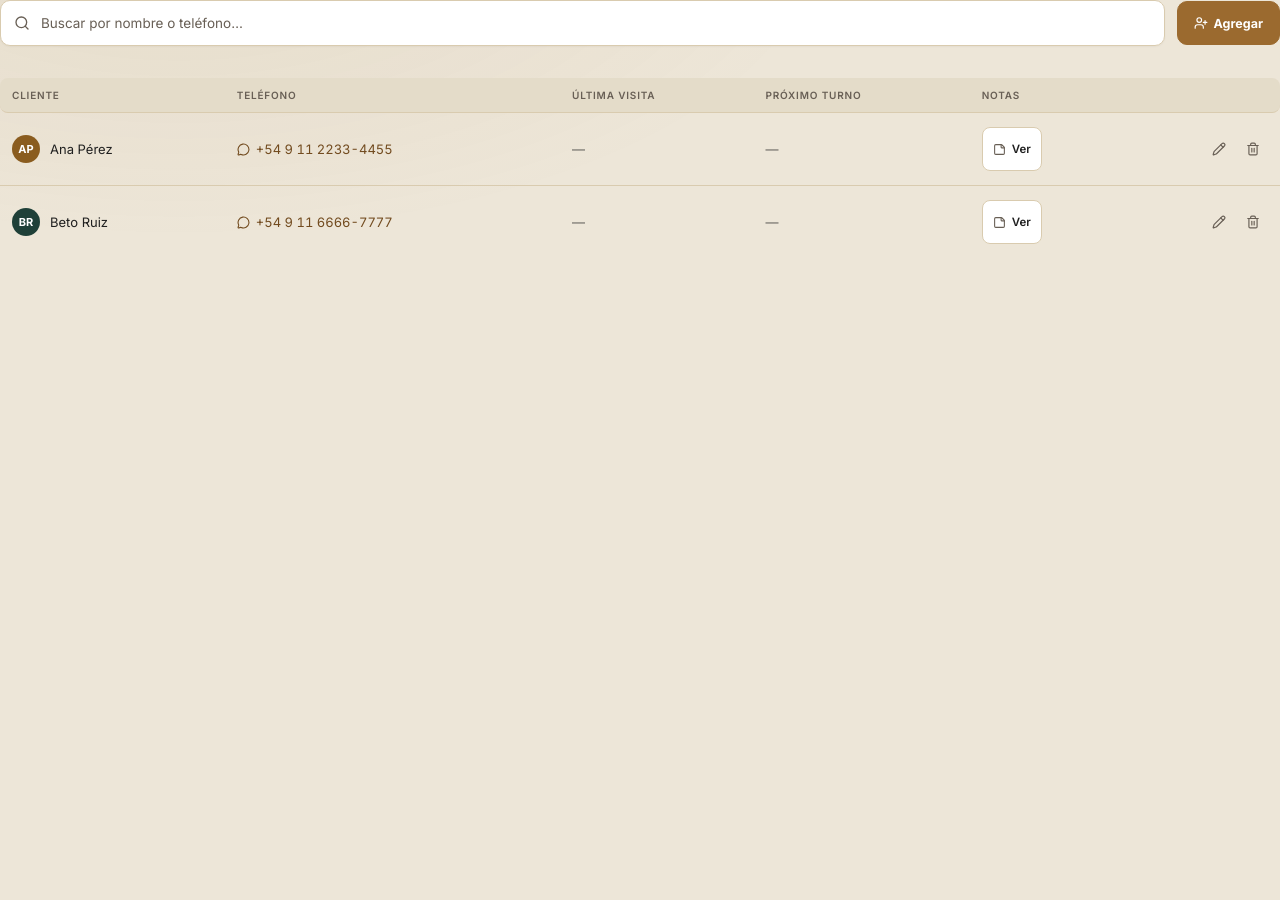
Scenario: Ficha del cliente · Iniciar chat (tarea 38) › desde Clientes: abre la ficha, inicia el chat del cliente correcto y cierra la ficha
What coordinates should you click on to do the following:
click the button "BR Beto Ruiz"
I would click on:
 (60, 222)
Its box is [12,208,108,236].
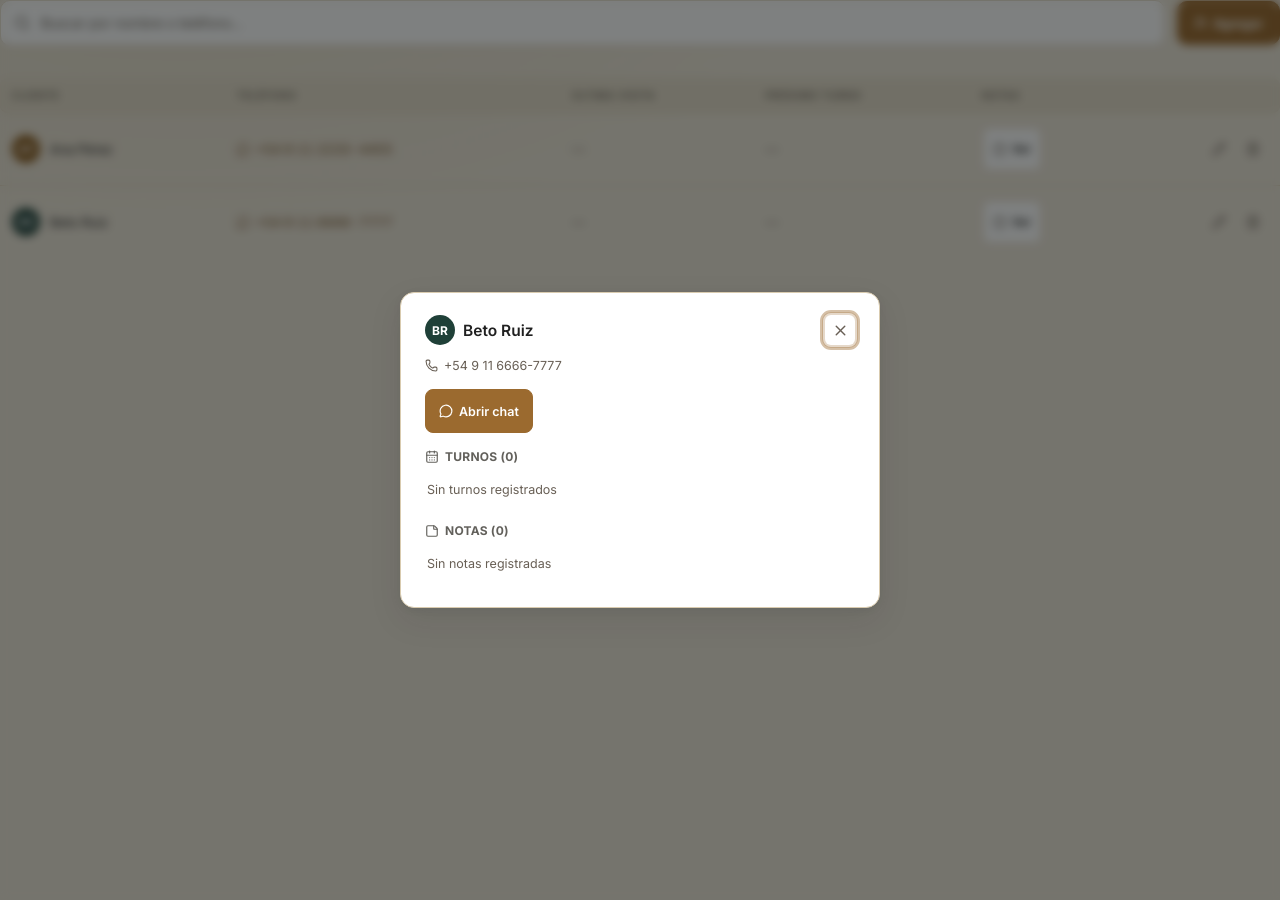
What coordinates should you click on to do the following:
click the button "Abrir chat"
I would click on:
 (479, 412)
Its box is [425,390,533,434].
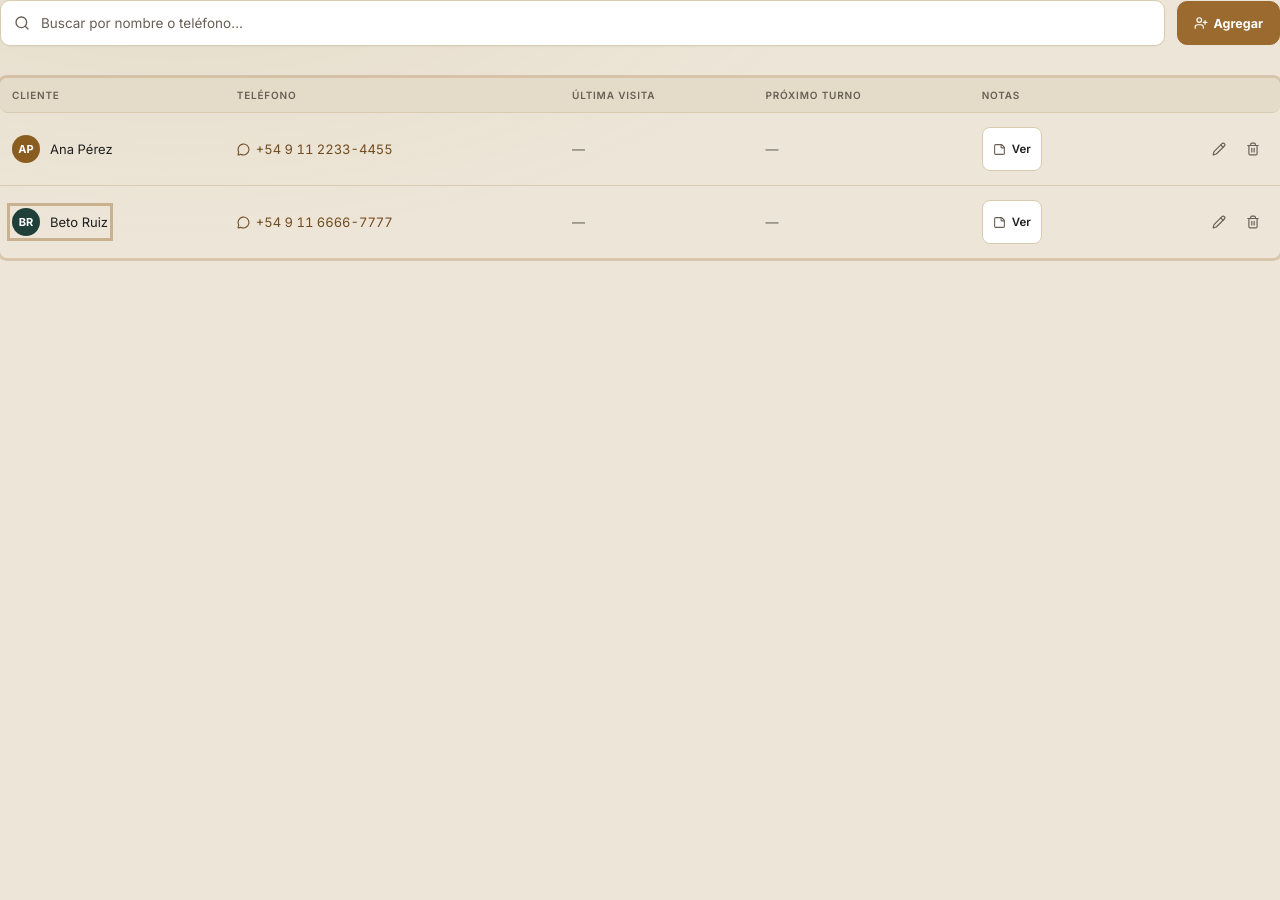
Result: the button "Abrir chat" is gone
